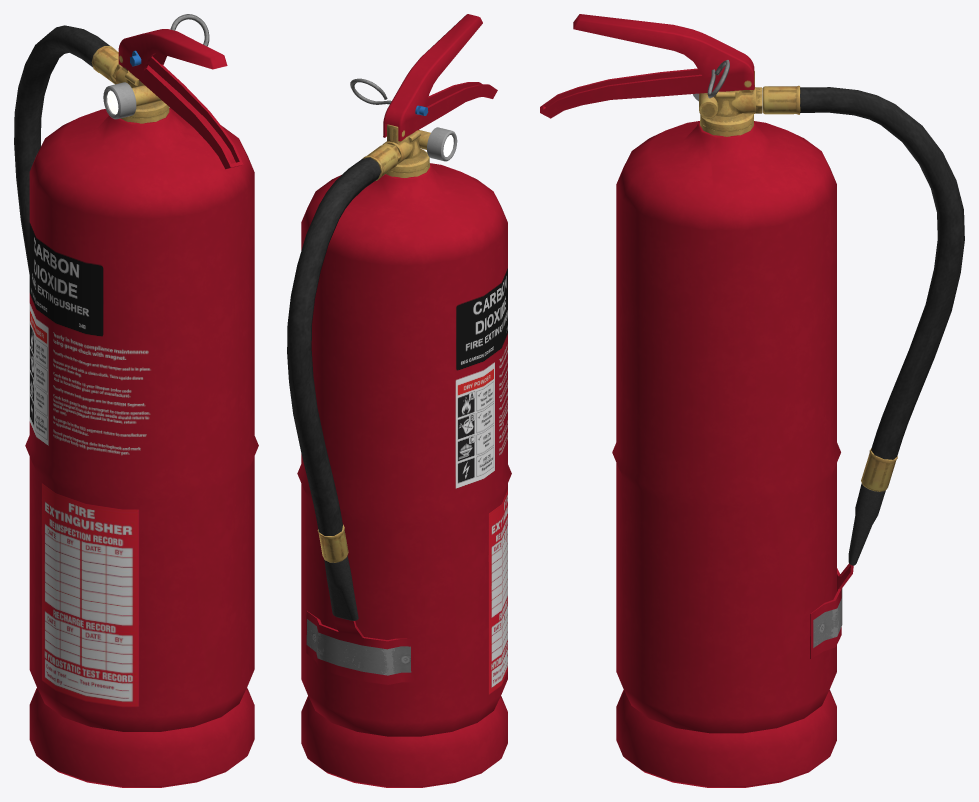
Rendered from SM_Fire_Extinguisher_01a.fbx.
The picture shows the model from 3 angles, left to right: view 1: azimuth 30°, elevation 25°; view 2: azimuth 150°, elevation 25°; view 3: azimuth 270°, elevation 25°; orthographic projection. The views are drawn at different scales.
Visible parts, largest first — view 1: SM_Fire_Extinguisher_01a; view 2: SM_Fire_Extinguisher_01a; view 3: SM_Fire_Extinguisher_01a.
Part boxes in pixels (<box>): SM_Fire_Extinguisher_01a: <box>14,14,258,787</box>; SM_Fire_Extinguisher_01a: <box>287,14,511,787</box>; SM_Fire_Extinguisher_01a: <box>540,14,964,787</box>.
Size of the model in its own units: 14.93 by 28.13 by 53.07.
2 materials, 1 textured.
